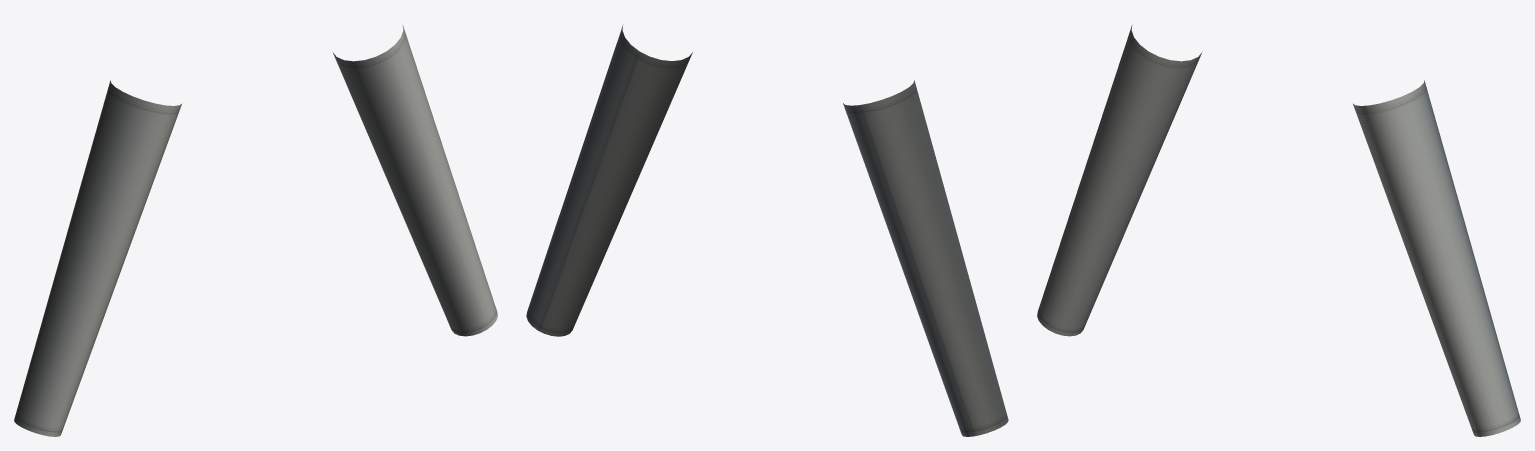
File: sleeve-only.glb
The picture shows the model from 3 angles, left to right: view 1: azimuth 30°, elevation 25°; view 2: azimuth 150°, elevation 25°; view 3: azimuth 330°, elevation 25°; orthographic projection.
Visible parts, largest first — view 1: 10013 - WOMENS SLEEVES (×2); view 2: 10013 - WOMENS SLEEVES (×2); view 3: 10013 - WOMENS SLEEVES (×2).
Boxes of the visible parts, bbox=[...] form: 10013 - WOMENS SLEEVES (×2): bbox=[14, 25, 497, 436]; 10013 - WOMENS SLEEVES (×2): bbox=[526, 24, 1008, 436]; 10013 - WOMENS SLEEVES (×2): bbox=[1037, 25, 1520, 436].
Size of the model in its own units: 7.28 by 4.81 by 0.9985.
Materials: 2 (2 with a texture image).
